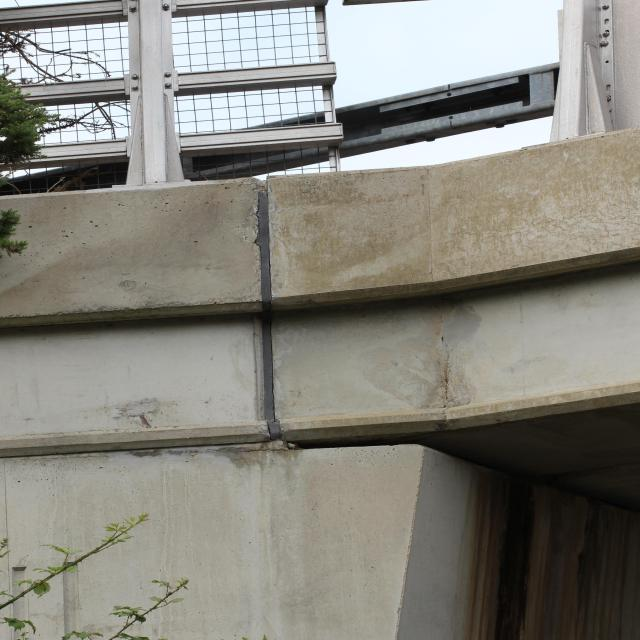Rebar: (111, 396, 161, 428)
concrete spalling: (237, 176, 273, 199)
horizontal crack: (186, 446, 299, 456)
vertical crack: (234, 200, 263, 287)
